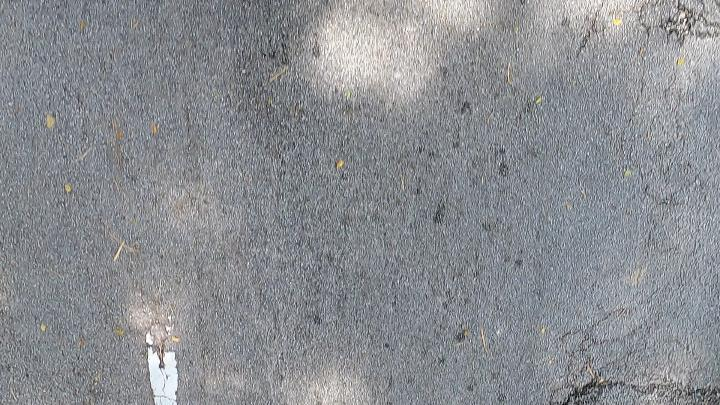Lane: (140, 342, 185, 405), (147, 345, 178, 404)
Pothole: (550, 374, 720, 405), (552, 379, 719, 404)
